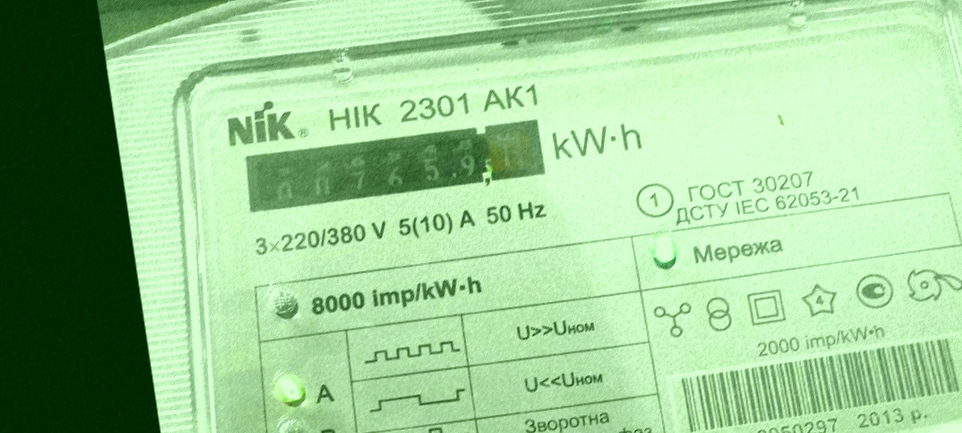0: (312, 168, 335, 196), (275, 173, 296, 201)
1: (498, 134, 517, 168)
5: (420, 150, 446, 180)
6: (385, 159, 407, 185)
7: (348, 164, 372, 191)
9: (458, 147, 480, 176)
screen: (232, 96, 560, 231)
